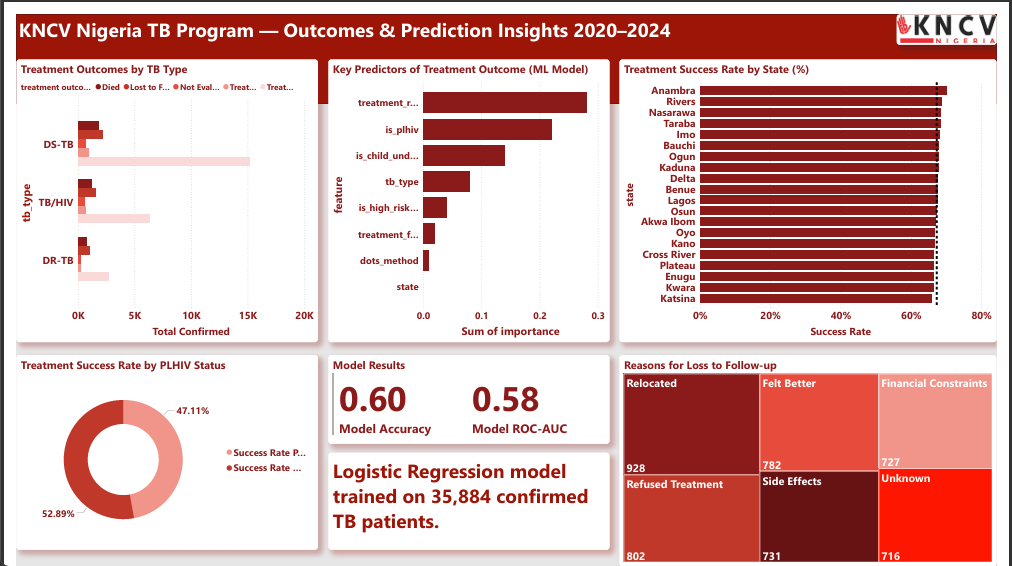

Layout of this report page (visuals, bound fields, positions):
{"tool":"powerbi","page":{"name":"Page 2","canvas":[1920,1080],"ordinal":1},"visuals":[{"type":"shape","box":[0,0,1920.2,174.8],"z":0},{"type":"textbox","box":[0,0,1366.8,87.4],"z":1000},{"type":"clusteredBarChart","title":"Treatment Outcomes by TB Type","fields":{"Category":["kncv_nigeria_tb_data_cleaned.tb_type"],"Y":["feature_importance.Total Confirmed"],"Series":["kncv_nigeria_tb_data_cleaned.treatment_outcome"]},"box":[0,88.2,590.7,553.2],"z":2000},{"type":"clusteredBarChart","title":"Treatment Success Rate by State (%)","fields":{"Category":["kncv_nigeria_tb_data_cleaned.state"],"Y":["feature_importance.Success Rate"]},"box":[1181.4,88.2,738.4,553.2],"z":3000},{"type":"donutChart","title":"Treatment Success Rate by PLHIV Status","fields":{"Y":["feature_importance.Success Rate PLHIV","kncv_nigeria_tb_data_cleaned.Success Rate Non-PLHIV"]},"box":[0,665.6,590.7,381.3],"z":4000},{"type":"treemap","title":"Reasons for Loss to Follow-up","fields":{"Group":["kncv_nigeria_tb_data_cleaned.lost_to_followup_reason"],"Values":["kncv_nigeria_tb_data_cleaned.Total Screened"]},"box":[1181.4,665.6,738.4,414.4],"z":5000},{"type":"image","box":[1723.6,0,196.2,59.5],"z":6000},{"type":"clusteredBarChart","title":"Key Predictors of Treatment Outcome (ML Model)","fields":{"Category":["feature_importance.feature"],"Y":["Sum(feature_importance.importance)"]},"box":[610.5,88.2,551,553.2],"z":7000},{"type":"multiRowCard","title":"Model Results","fields":{"Values":["feature_importance.Model Accuracy","feature_importance.Model ROC-AUC"]},"box":[610.5,665.6,551,174.1],"z":8000},{"type":"textbox","box":[610.5,857.4,551,189.6],"z":8001}]}

Visuals, with their boxes in screenshot pixels (x1, y1, x2, y2), scaled from the page's 1920x1080 canvas onto the 1012x566 screenshot:
shape: 0 0 1011 92
textbox: 0 0 720 46
"Treatment Outcomes by TB Type" clusteredBarChart: 0 46 311 336
"Treatment Success Rate by State (%)" clusteredBarChart: 623 46 1011 336
"Treatment Success Rate by PLHIV Status" donutChart: 0 349 311 549
"Reasons for Loss to Follow-up" treemap: 623 349 1011 565
image: 908 0 1011 31
"Key Predictors of Treatment Outcome (ML Model)" clusteredBarChart: 322 46 612 336
"Model Results" multiRowCard: 322 349 612 440
textbox: 322 449 612 549
